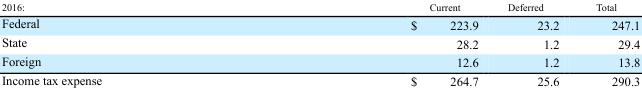table: (0, 1, 639, 88)
table column: (0, 1, 255, 88), (255, 1, 492, 88), (492, 1, 576, 88), (576, 1, 639, 88)
table column header: (0, 1, 639, 14)
table row: (0, 14, 639, 33), (0, 33, 639, 52), (0, 52, 639, 71), (0, 71, 639, 88), (0, 1, 639, 14)
